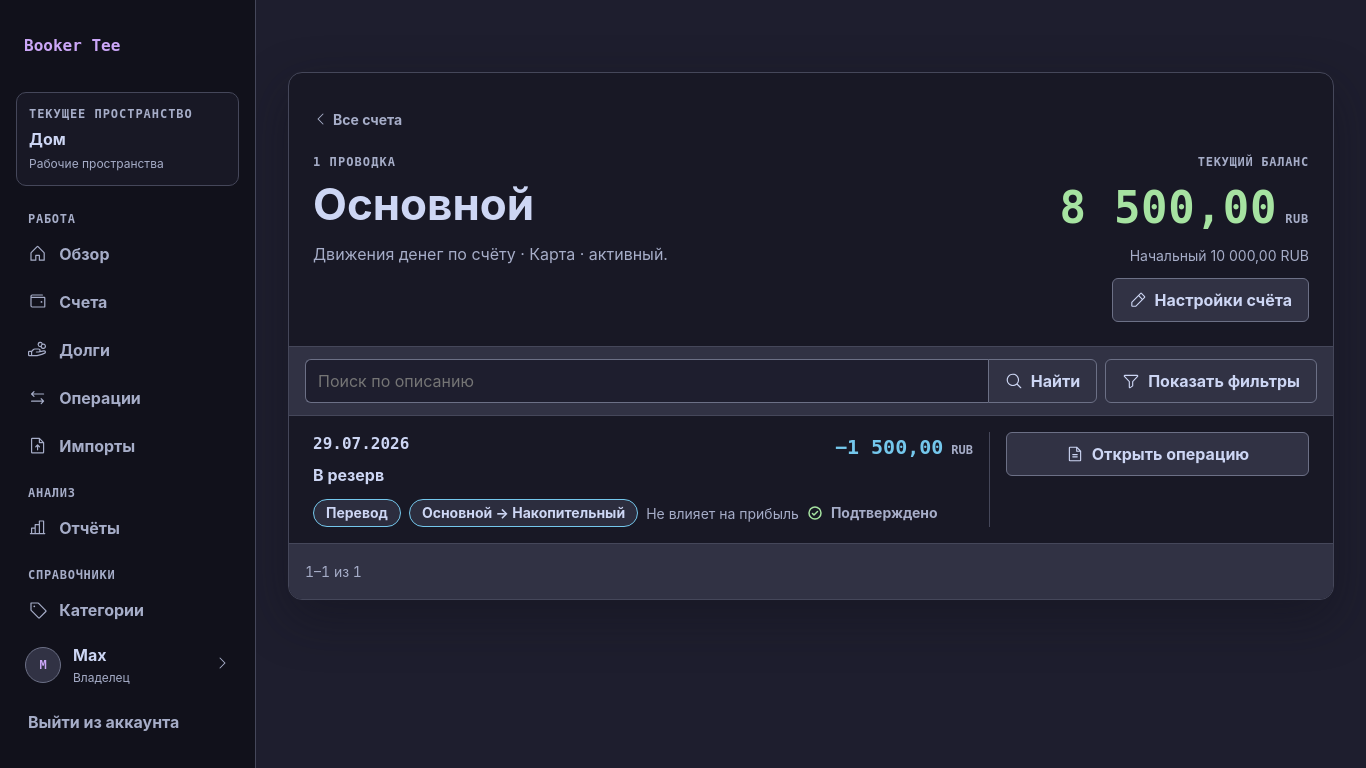
it: AccountDetailPage › archives from settings only after explaining what stays
The image size is (1366, 768).
Click the button "Настройки счёта": (1210, 300) [1112,278,1309,322]
(page scrolled)
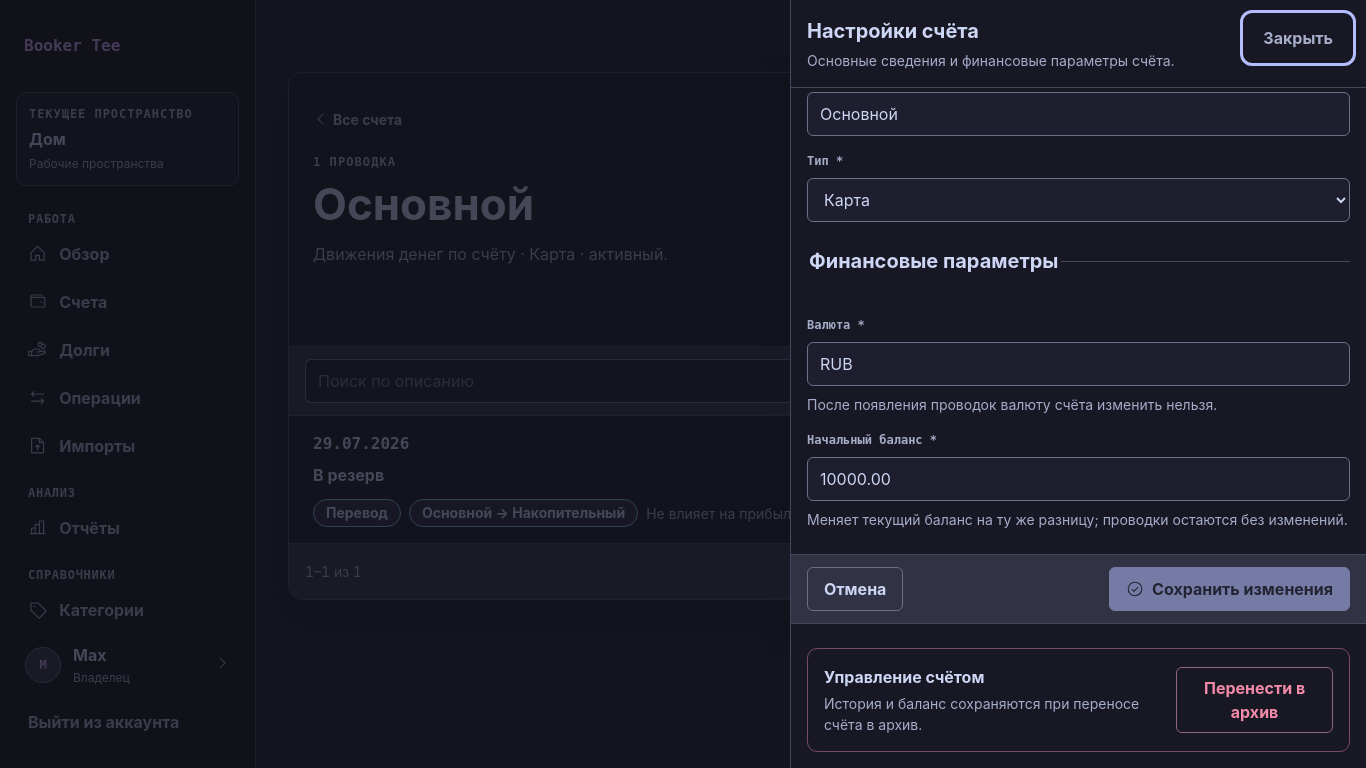
Click the button "Перенести в архив": (1255, 700) [1176,667,1333,733]
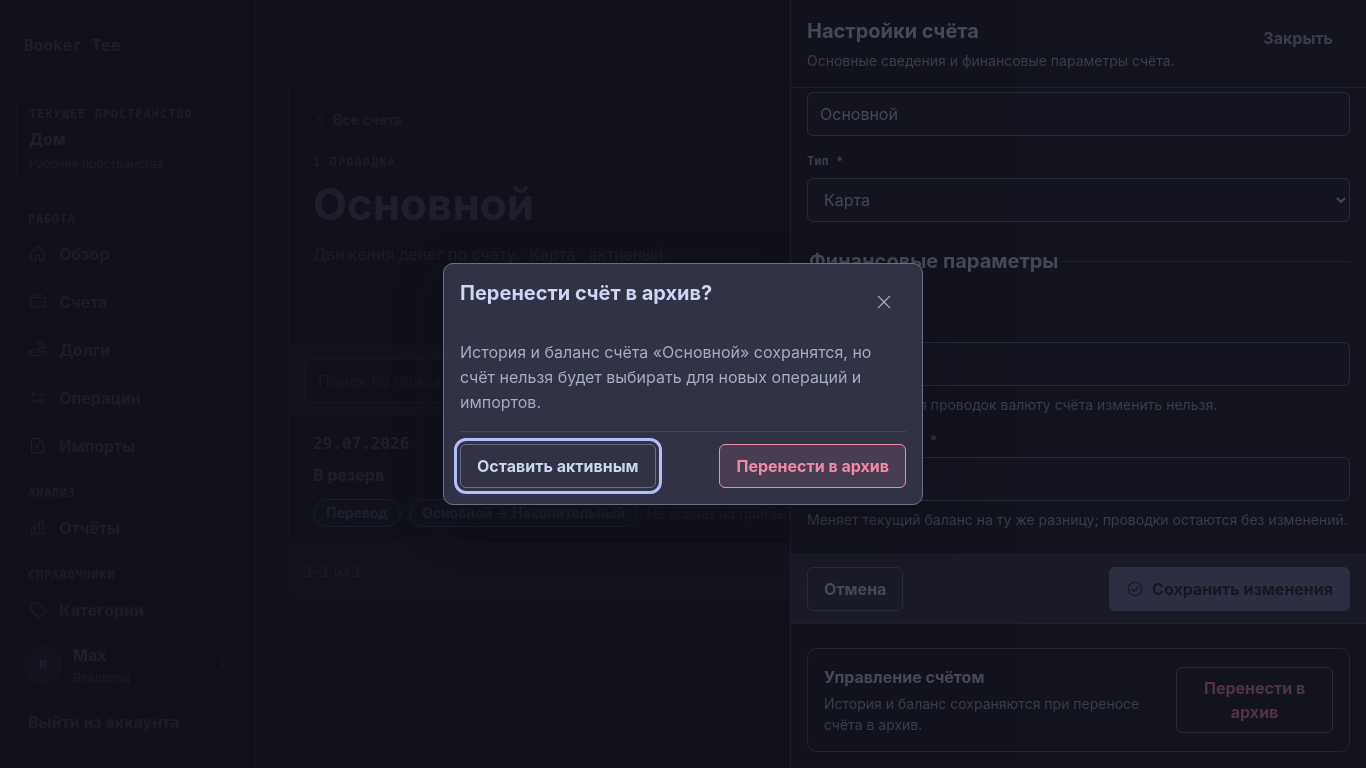
Click the button "Перенести в архив": (813, 466) [719,444,906,488]
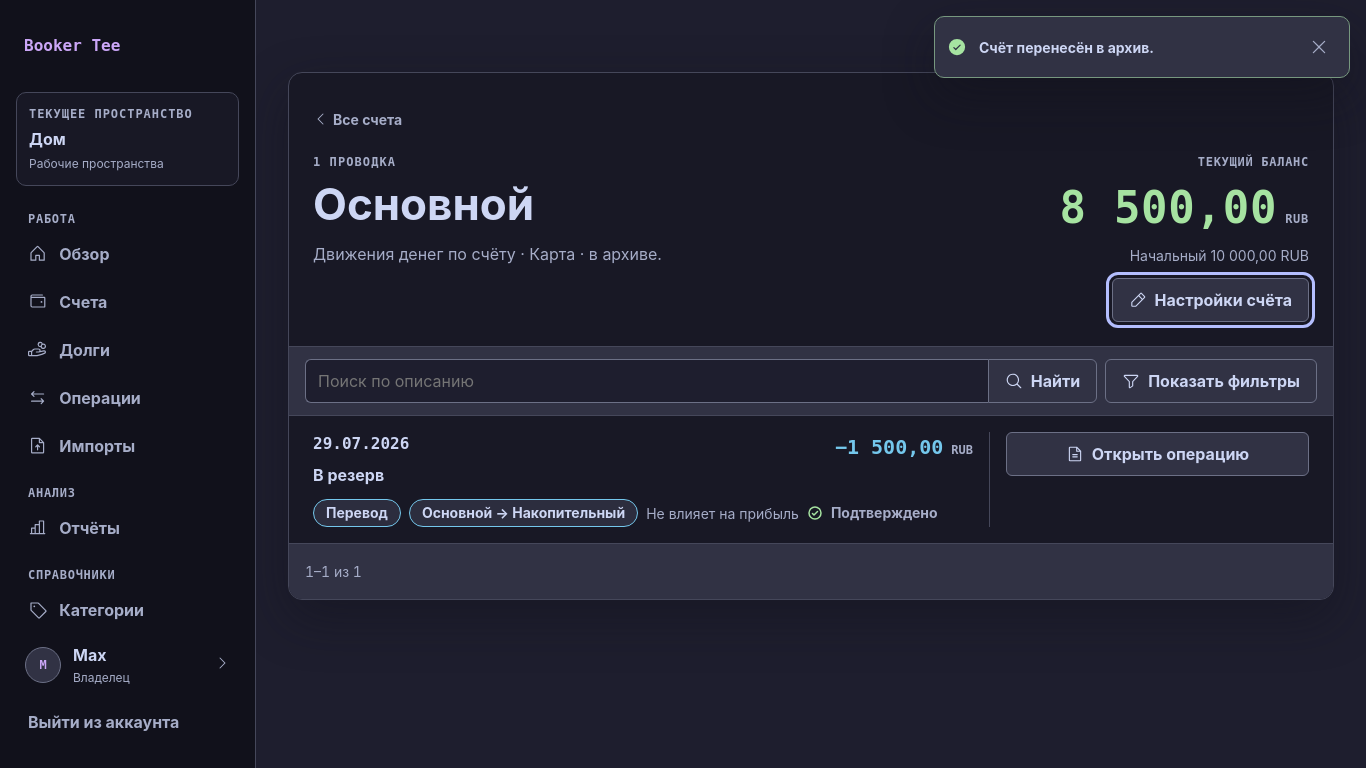
Now the text "Движения денег по счёту · Карта · в архиве." is shown, box [313,242,662,266]
